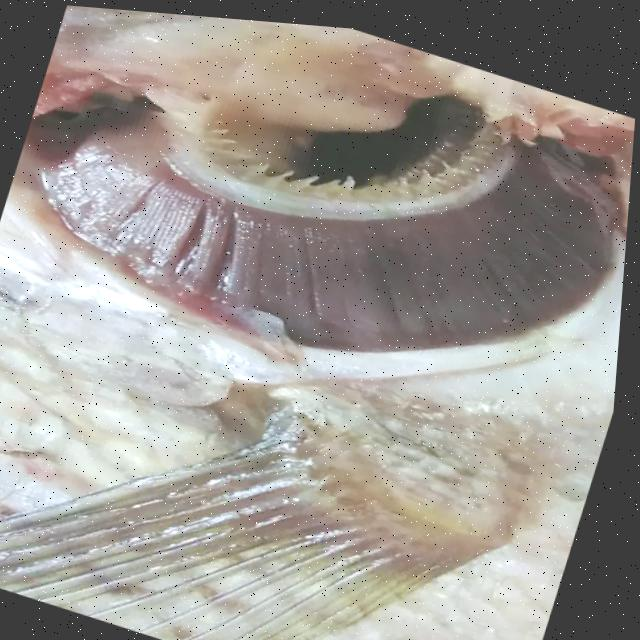Non-Fresh: (4, 2, 617, 417)
